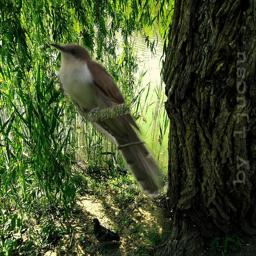Cuckoo: (47, 39, 169, 198)
